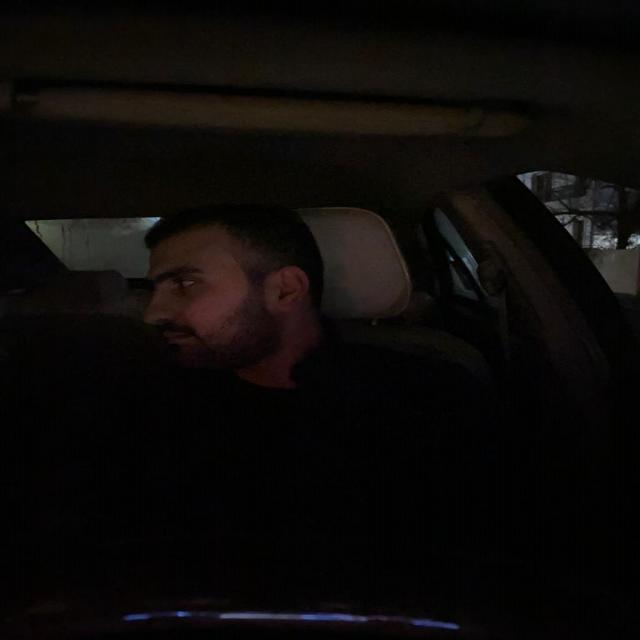LeftRight: (129, 197, 321, 384)
